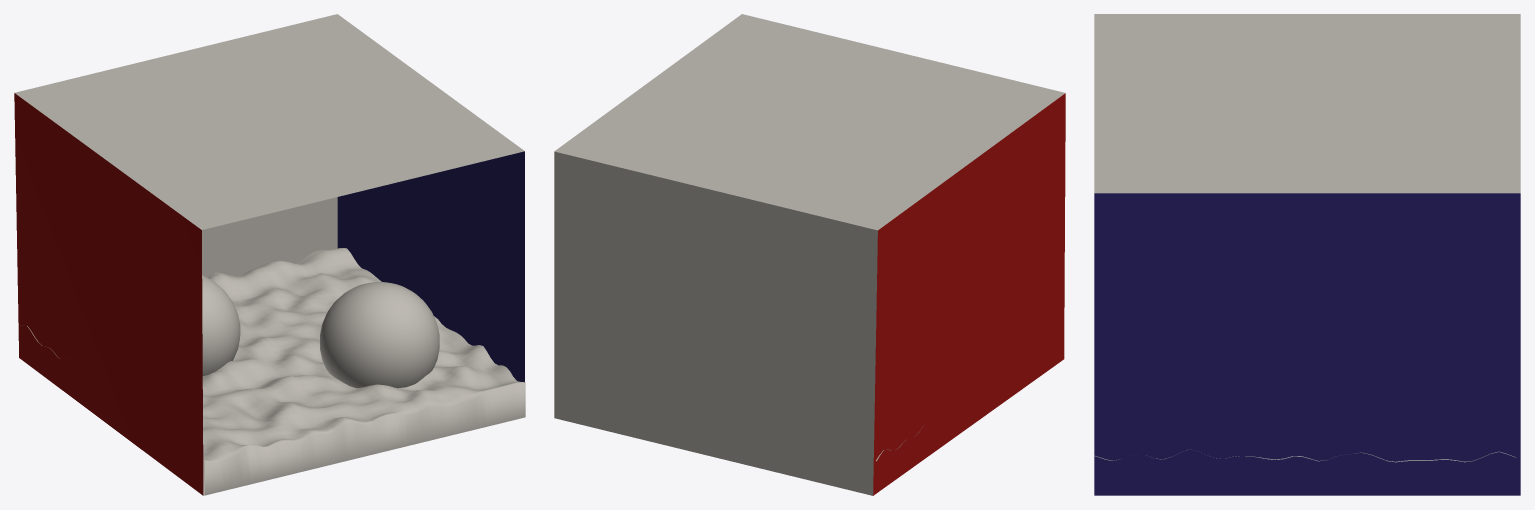
The model's file is CornellBox-Water.obj.
3 renders of one model, left to right at view 1: azimuth 30°, elevation 25°; view 2: azimuth 150°, elevation 25°; view 3: azimuth 270°, elevation 25°, orthographic. The views are drawn at different scales.
Parts seen in each view (by area): view 1: ceiling, leftWall, water, rightWall, rightSphere, backWall, leftSphere; view 2: backWall, ceiling, leftWall; view 3: rightWall, ceiling.
Boxes of the visible parts, x1,y1,x2,y2 form: ceiling: (14,14,524,229); leftWall: (14,93,203,495); water: (20,248,525,495); rightWall: (337,151,524,382); rightSphere: (320,282,439,388); backWall: (202,197,337,277); leftSphere: (202,275,240,376); backWall: (554,151,877,495); ceiling: (554,14,1065,230); leftWall: (873,93,1065,495); rightWall: (1094,193,1520,495); ceiling: (1094,14,1520,193).
Bounding box in the file's own units: 2.02 × 1.59 × 2.03.
